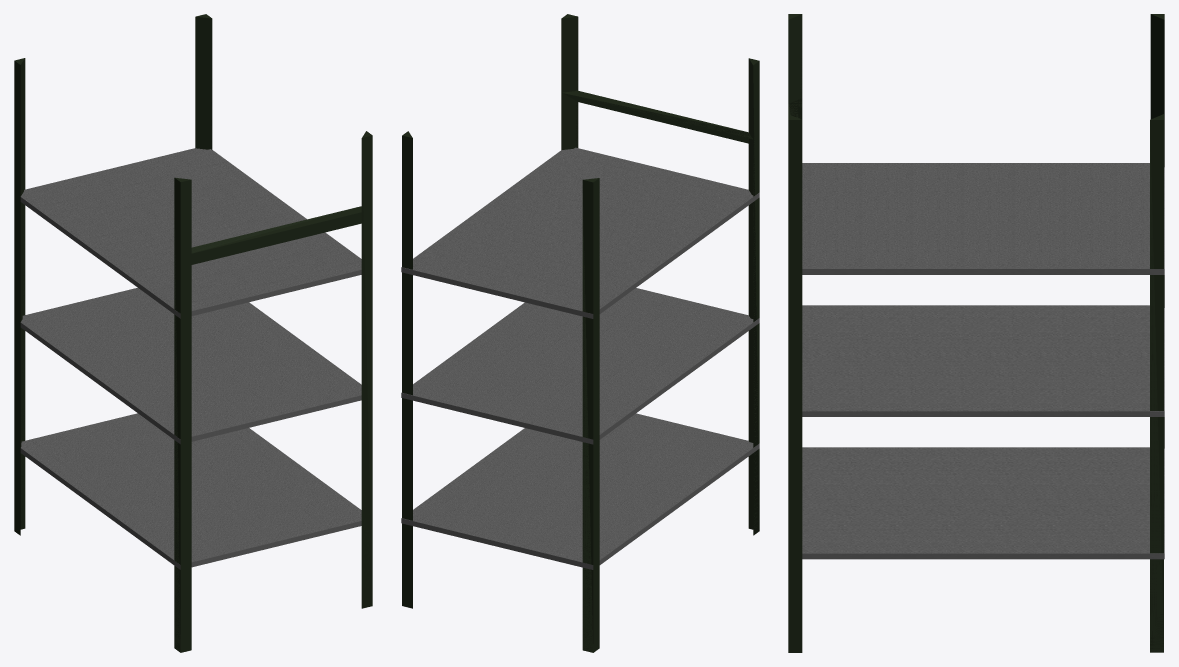
Rendered from strl.glb.
The picture shows the model from 3 angles, left to right: view 1: azimuth 30°, elevation 25°; view 2: azimuth 150°, elevation 25°; view 3: azimuth 270°, elevation 25°; orthographic projection. The views are drawn at different scales.
Parts seen in each view (by area): view 1: Куб.002, Куб, Куб.001, Cube.001, Cube.002, Cube.003, Cube.005, Cube.004; view 2: Куб.002, Куб, Куб.001, Cube.003, Cube.001, Cube.004, Cube.002, Cube.005; view 3: Куб, Куб.001, Куб.002, Cube.002, Cube.004, Cube.003, Cube.001.
Boxes of the visible parts, x1=… form: Куб.002: x1=20, y1=148, x2=361, y2=318; Куб: x1=20, y1=413, x2=361, y2=569; Куб.001: x1=20, y1=287, x2=361, y2=444; Cube.001: x1=174, y1=177, x2=191, y2=652; Cube.002: x1=361, y1=131, x2=372, y2=608; Cube.003: x1=14, y1=58, x2=25, y2=535; Cube.005: x1=191, y1=206, x2=361, y2=264; Cube.004: x1=195, y1=14, x2=212, y2=149; Куб.002: x1=401, y1=147, x2=759, y2=318; Куб: x1=401, y1=413, x2=759, y2=569; Куб.001: x1=401, y1=288, x2=759, y2=444; Cube.003: x1=582, y1=178, x2=599, y2=652; Cube.001: x1=748, y1=58, x2=759, y2=535; Cube.004: x1=402, y1=131, x2=412, y2=608; Cube.002: x1=561, y1=14, x2=578, y2=149; Cube.005: x1=562, y1=90, x2=752, y2=143; Куб: x1=802, y1=447, x2=1164, y2=559; Куб.001: x1=802, y1=305, x2=1164, y2=416; Куб.002: x1=802, y1=163, x2=1164, y2=274; Cube.002: x1=788, y1=114, x2=802, y2=652; Cube.004: x1=1150, y1=114, x2=1163, y2=652; Cube.003: x1=1150, y1=14, x2=1164, y2=448; Cube.001: x1=788, y1=14, x2=802, y2=103.
Size of the model in its own units: 8 by 18.74 by 12.
Materials: 2 (1 with a texture image).
